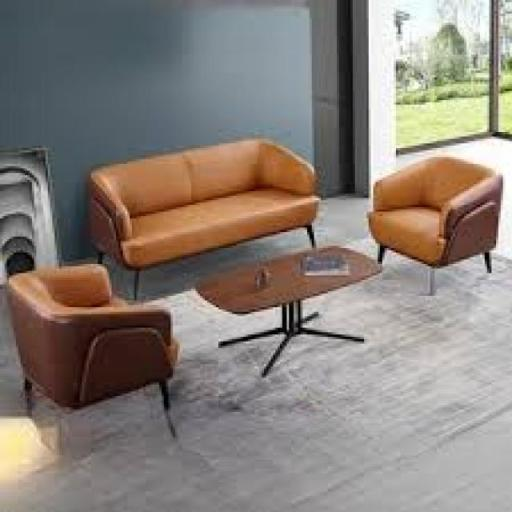sofa: (66, 108, 332, 272), (0, 244, 197, 438), (349, 115, 512, 289)
